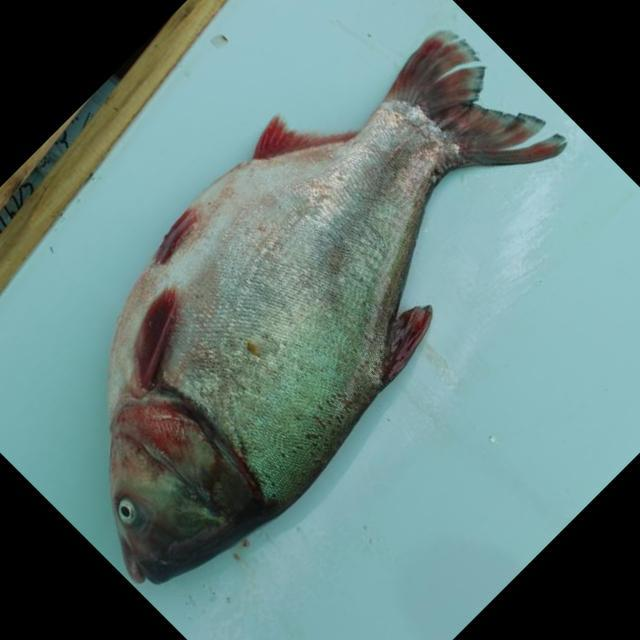SilverCarp: (70, 43, 594, 588)
